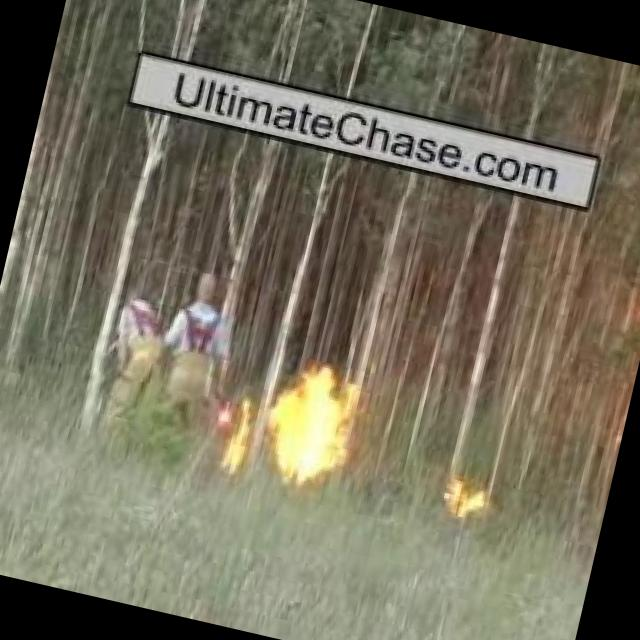Fire: (252, 353, 366, 497), (201, 387, 265, 477), (442, 474, 492, 522)
